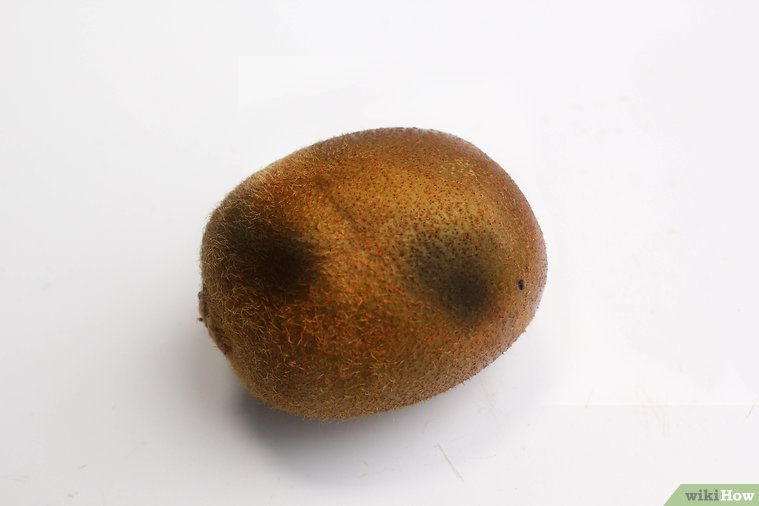damaged_kiwi: (209, 133, 541, 392)
